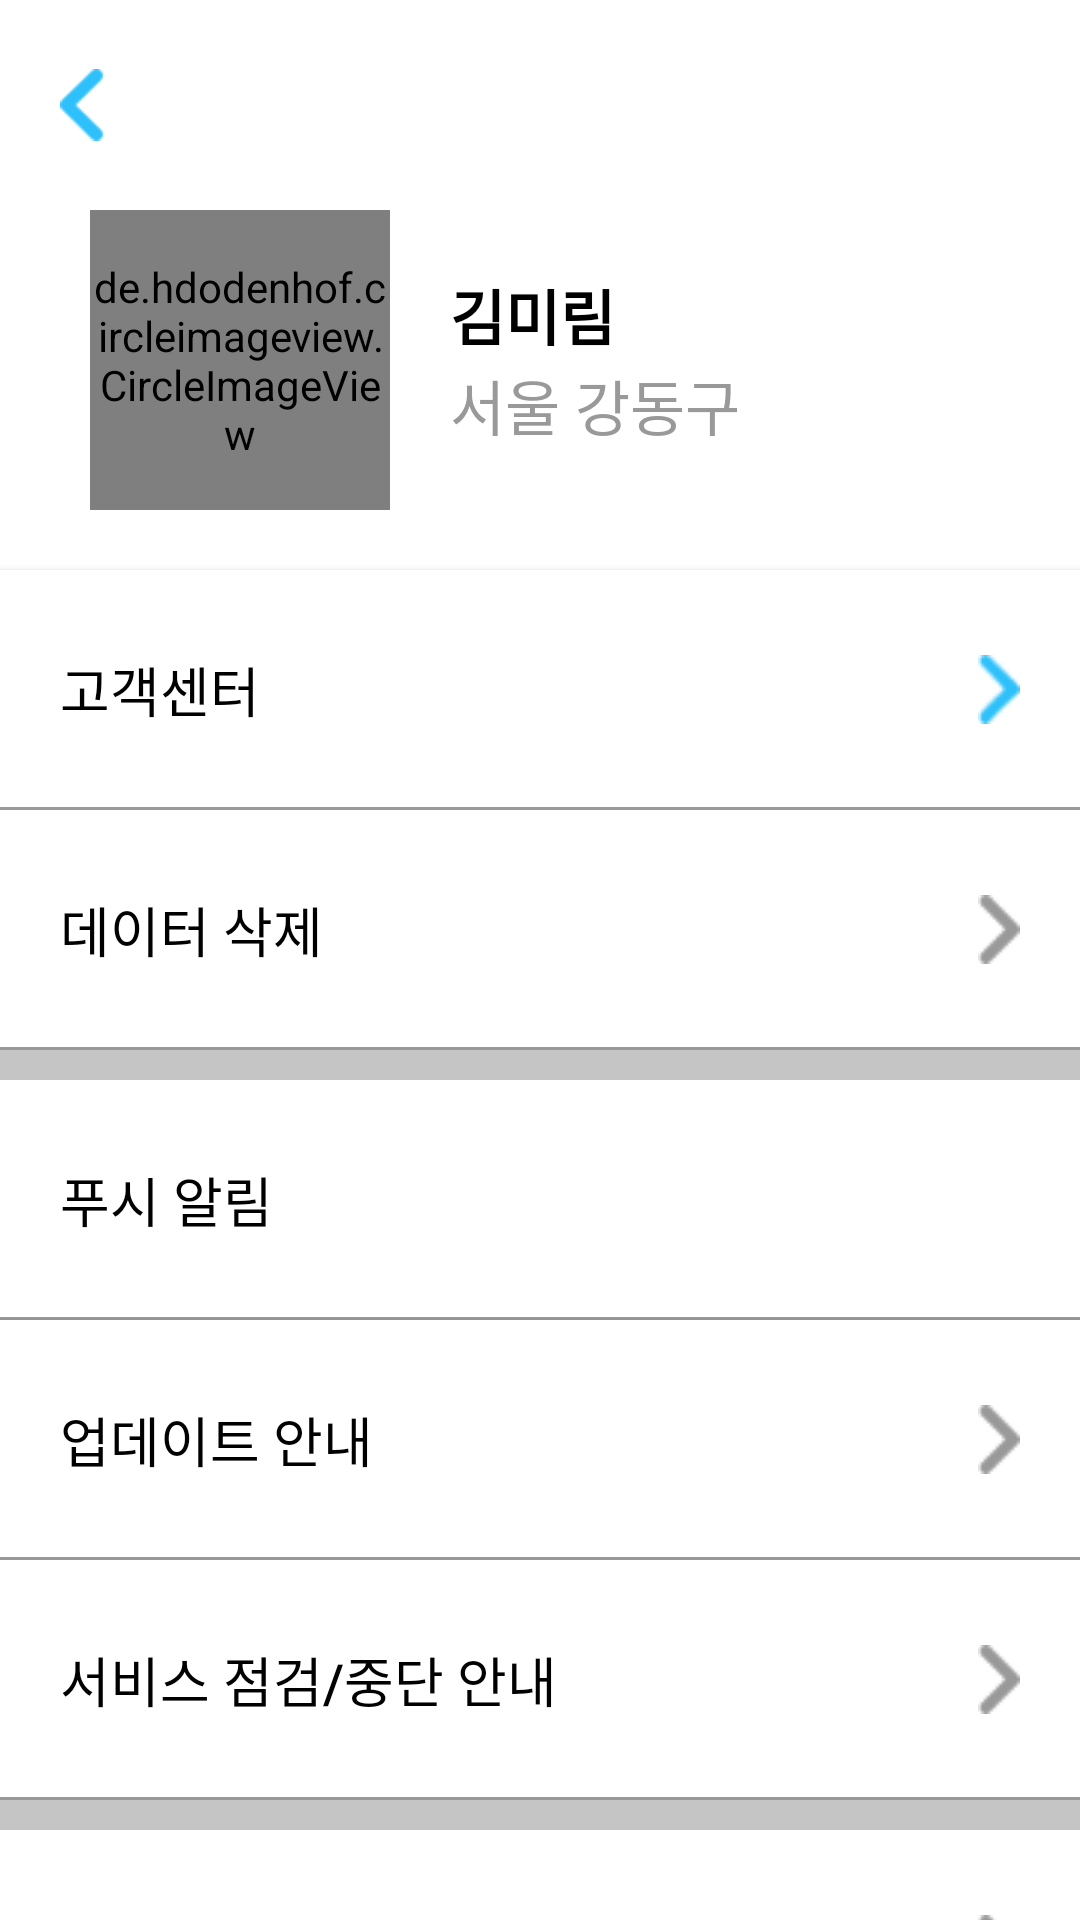

Named icons in this screenshot (1080*1920) and their bounding boxes, (x1, y1, x2, y2):
back: (60, 69, 104, 141)
